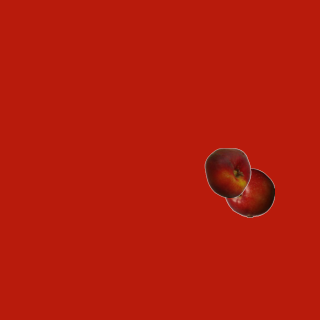Apple Braeburn: (224, 167, 274, 217)
Nectarine Flat: (202, 147, 252, 197)
